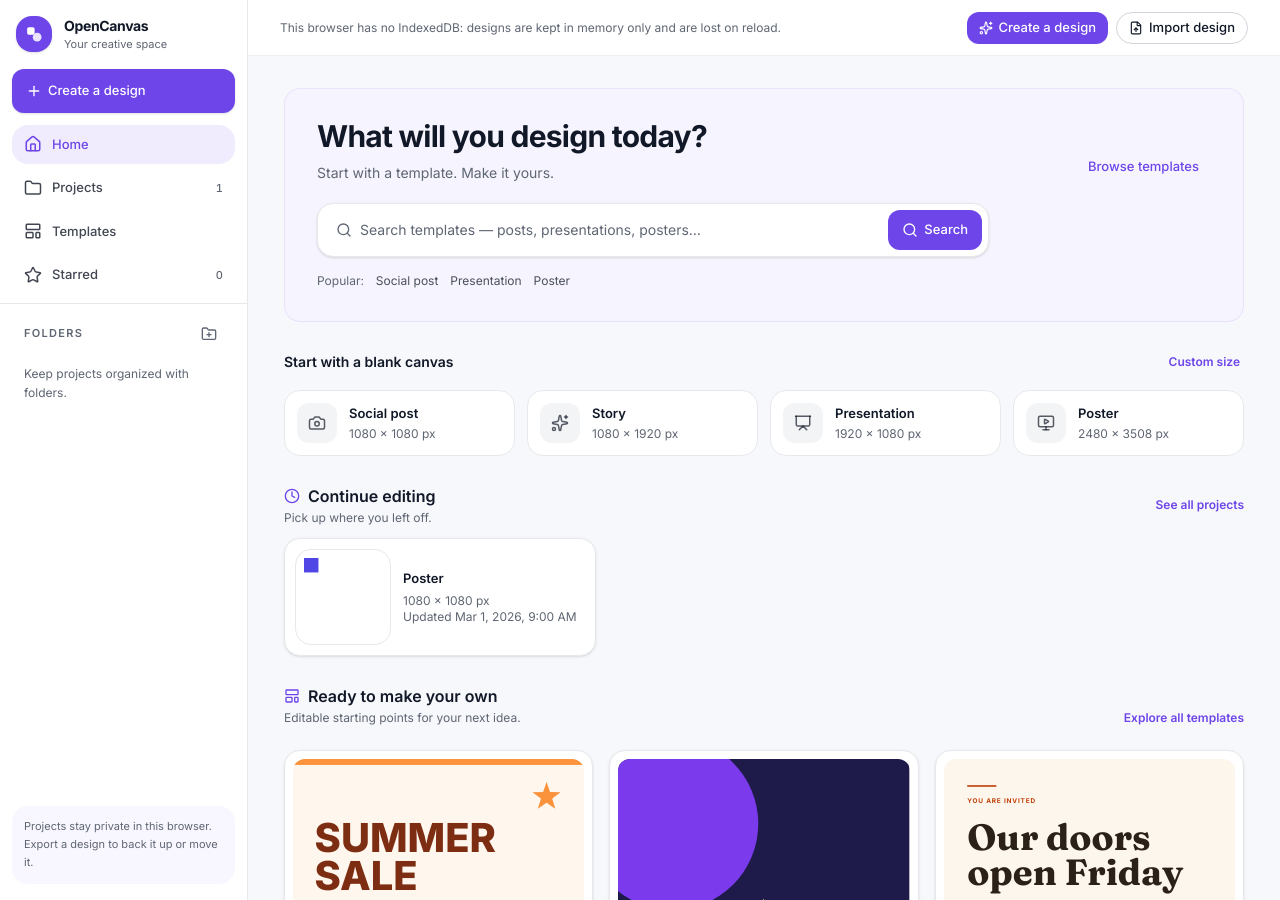
Scenario: Dashboard › renames a design and stores the new name
Click the button "Projects 1" at (124, 188), box [12, 168, 235, 208]
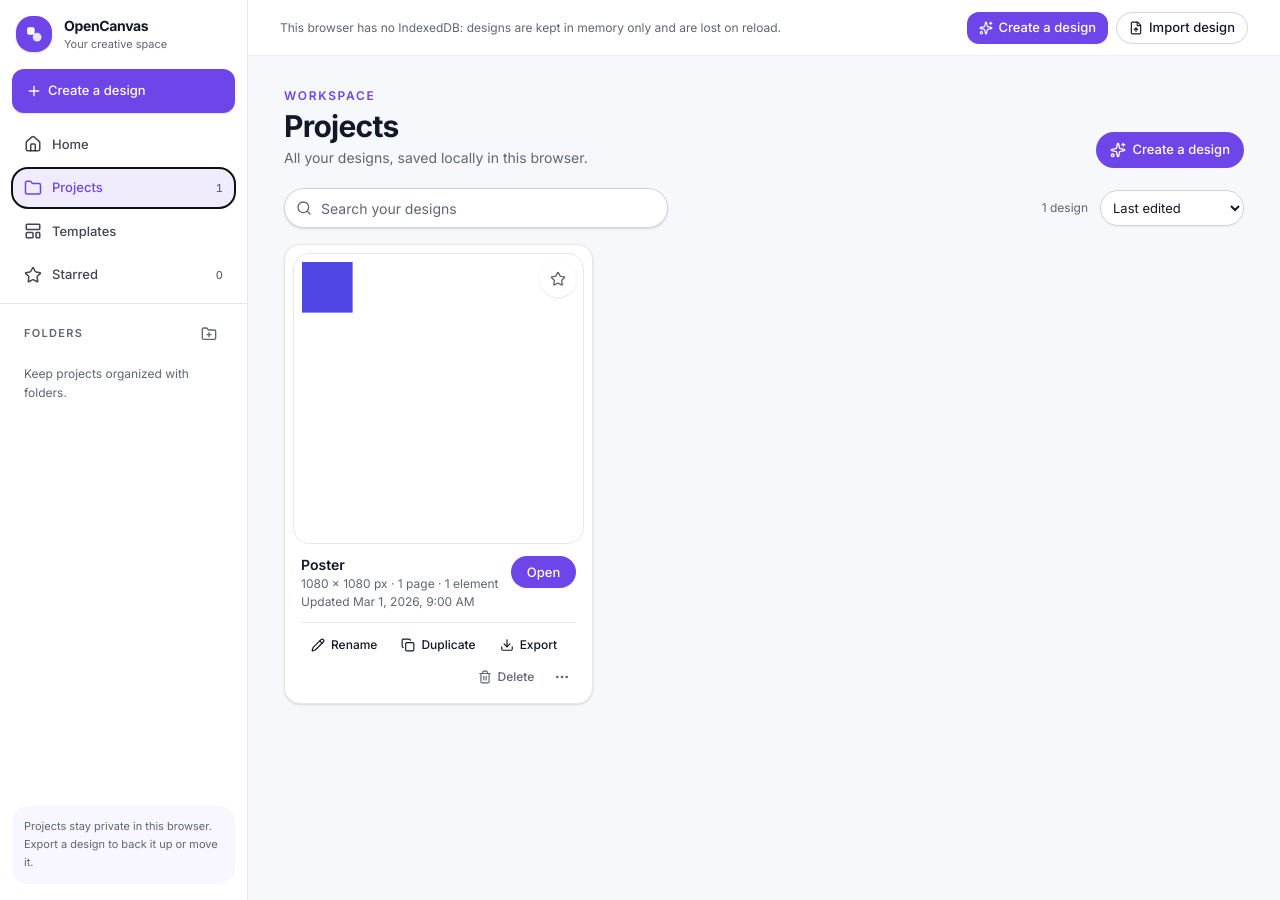
Click the button with aria-label "Rename Poster" at (344, 645), box [301, 631, 387, 659]
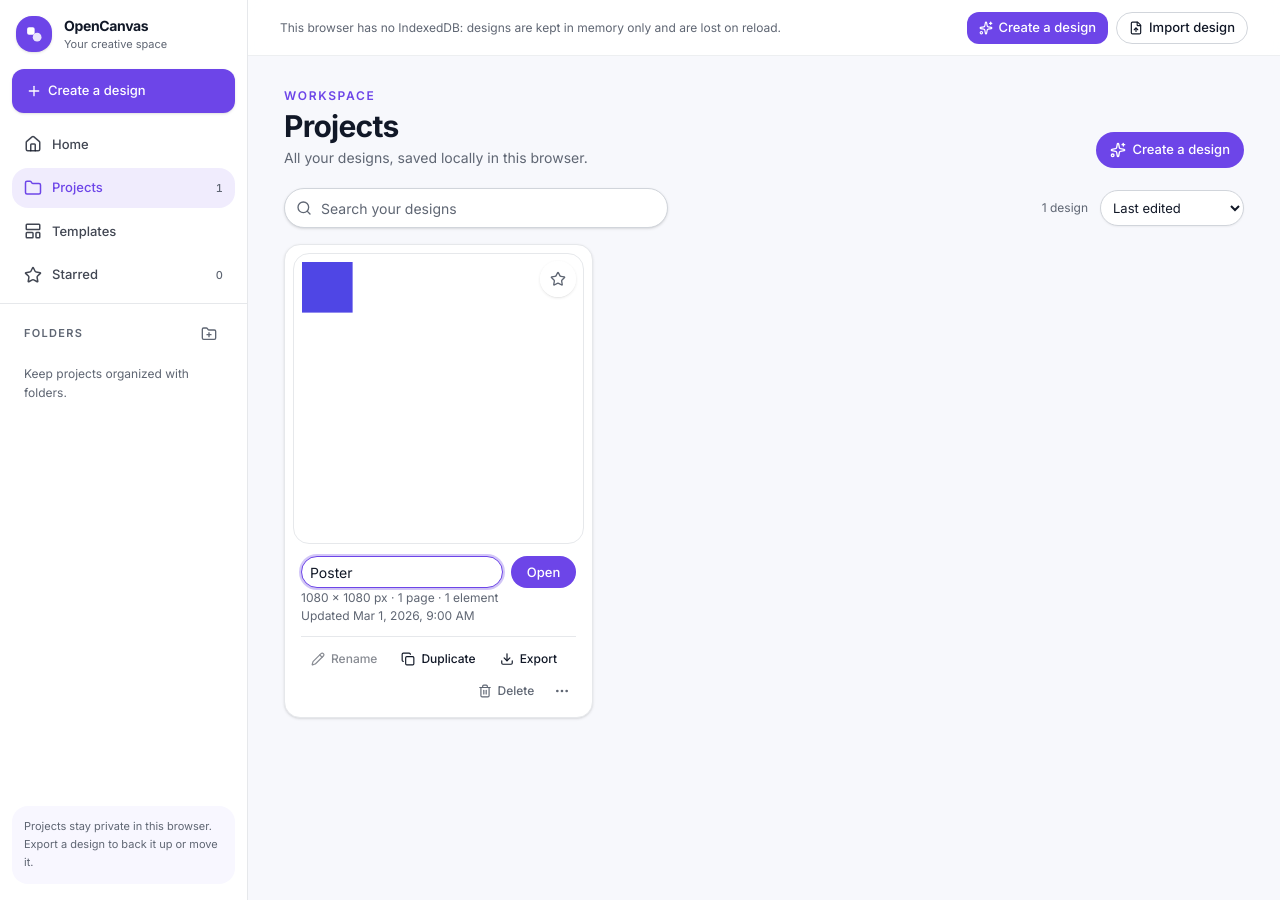
Replace the text in the field named "New name for Poster" with "Spring flyer" at (402, 572), box [301, 556, 503, 588]
Then press Enter
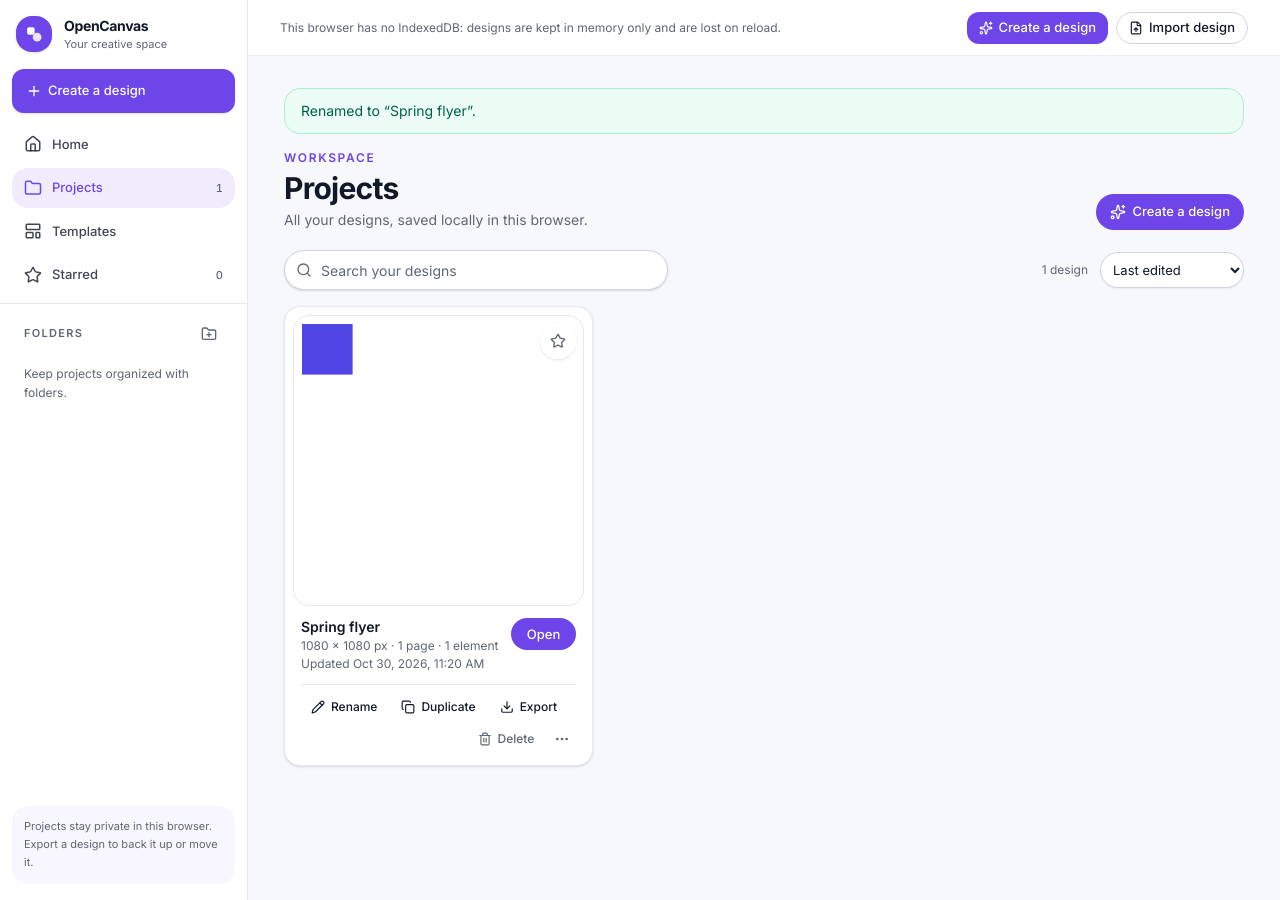
Expected: the heading "Spring flyer" is shown, [301, 618, 380, 635]
